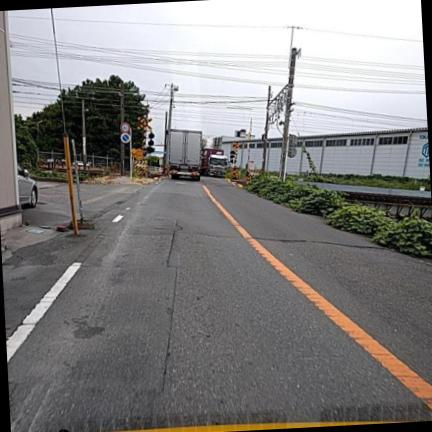Road: (2, 178, 431, 431)
